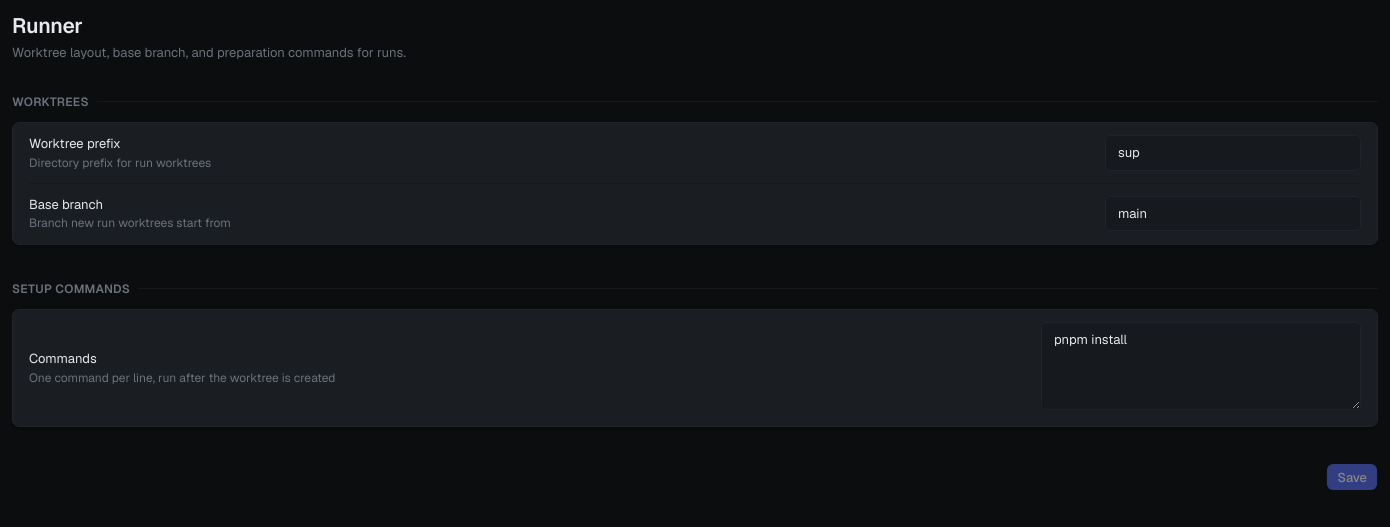
Test: SettingsPaneRunner › enables save on change and disables it again on an invalid prefix
Clear the field named "Worktree prefix" at point(1233, 153), box top-left (1105, 135), bottom-right (1361, 171)
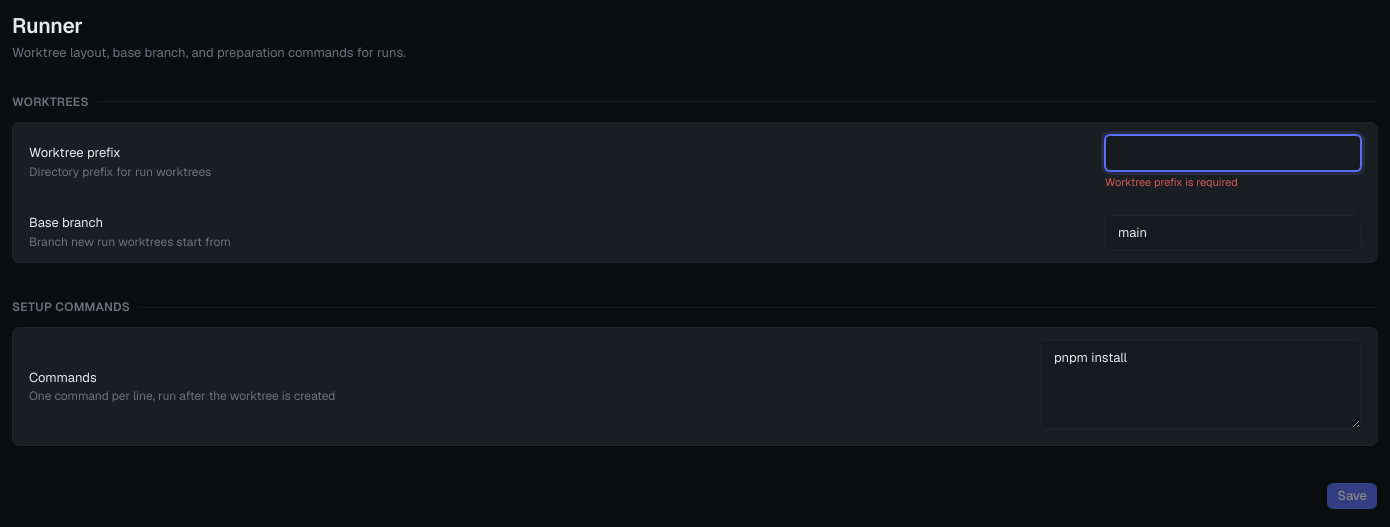
Type "sup-2" into the field named "Worktree prefix" at point(1233, 153), box top-left (1105, 135), bottom-right (1361, 171)
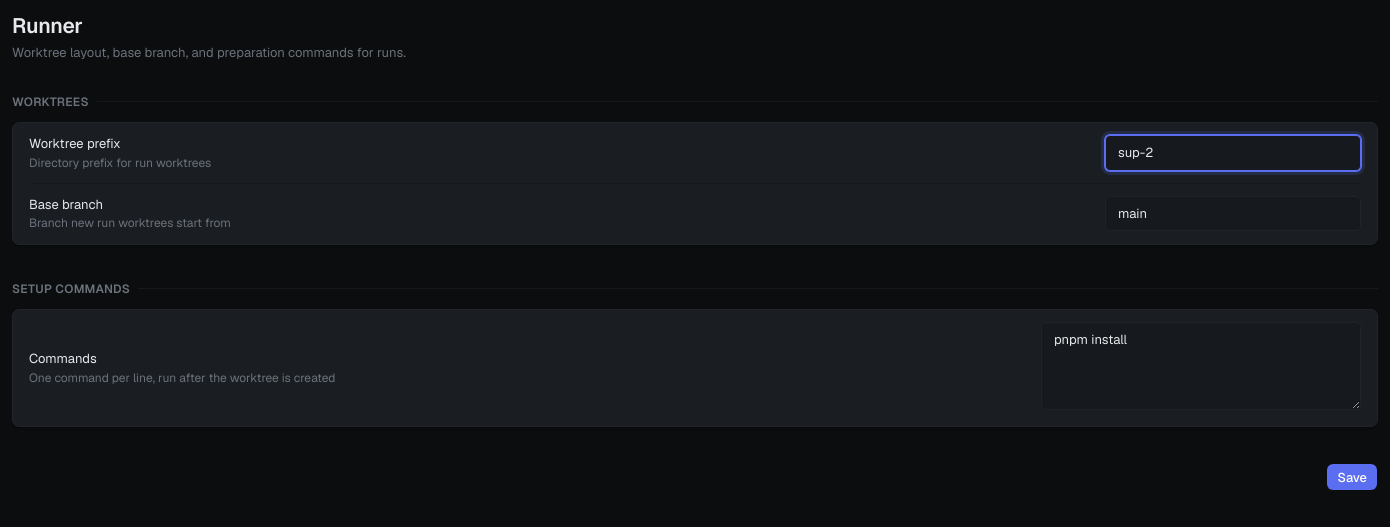
Expected: the button "Save" is enabled, top-left (1326, 464), bottom-right (1378, 492)
Clear the field named "Worktree prefix" at point(1233, 153), box top-left (1105, 135), bottom-right (1361, 171)
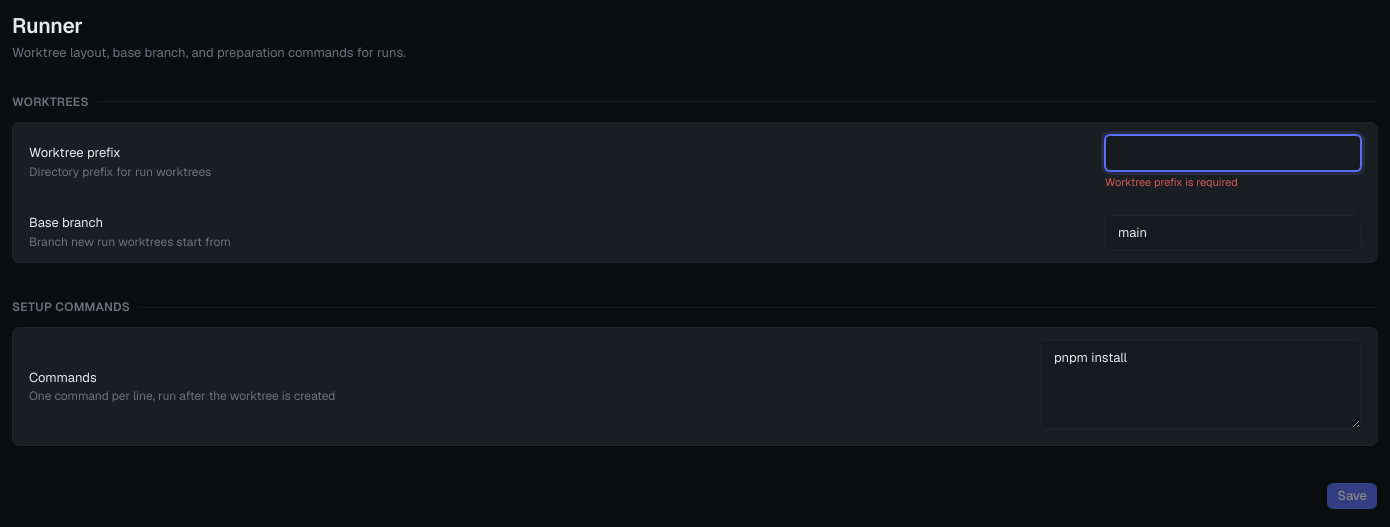
Type "SUP" into the field named "Worktree prefix" at point(1233, 153), box top-left (1105, 135), bottom-right (1361, 171)
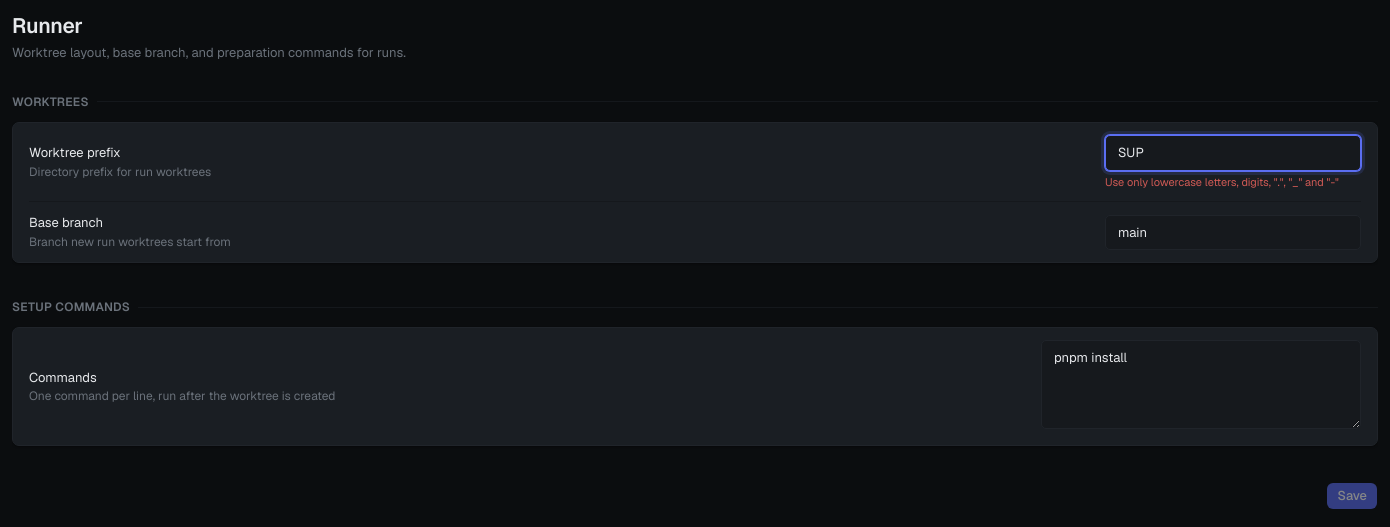
Expected: the button "Save" is disabled, top-left (1326, 482), bottom-right (1378, 510)
Expected: the text "Use only lowercase letters, digits, \".\", \"_\" and \"-\"" is shown, top-left (1105, 175), bottom-right (1361, 189)
